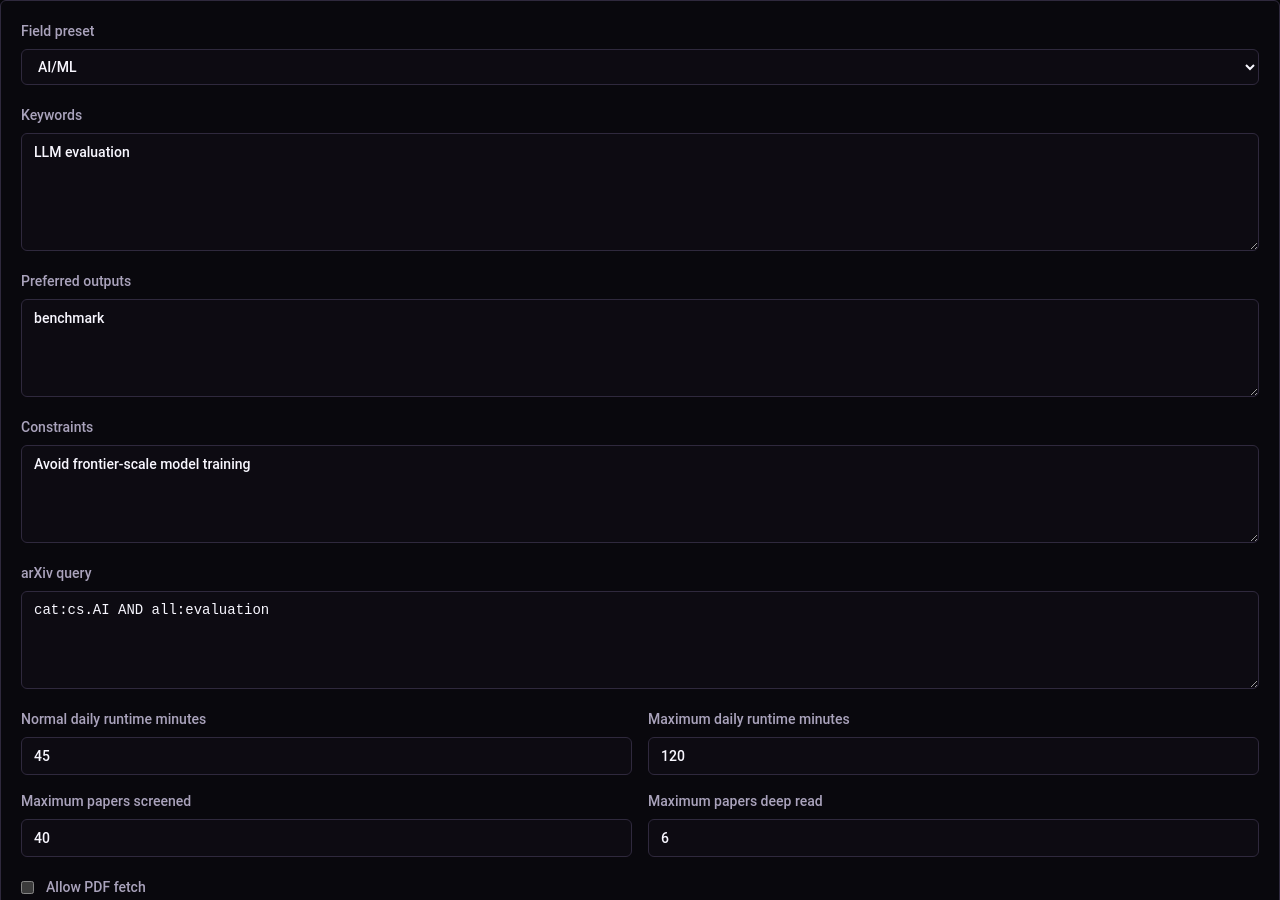
it: ProfileForm › repopulates query, keywords, outputs, and constraints when the field preset changes
Select "Chemistry" in the dropdown labelled "Field preset" at (640, 67), box [21, 49, 1259, 85]
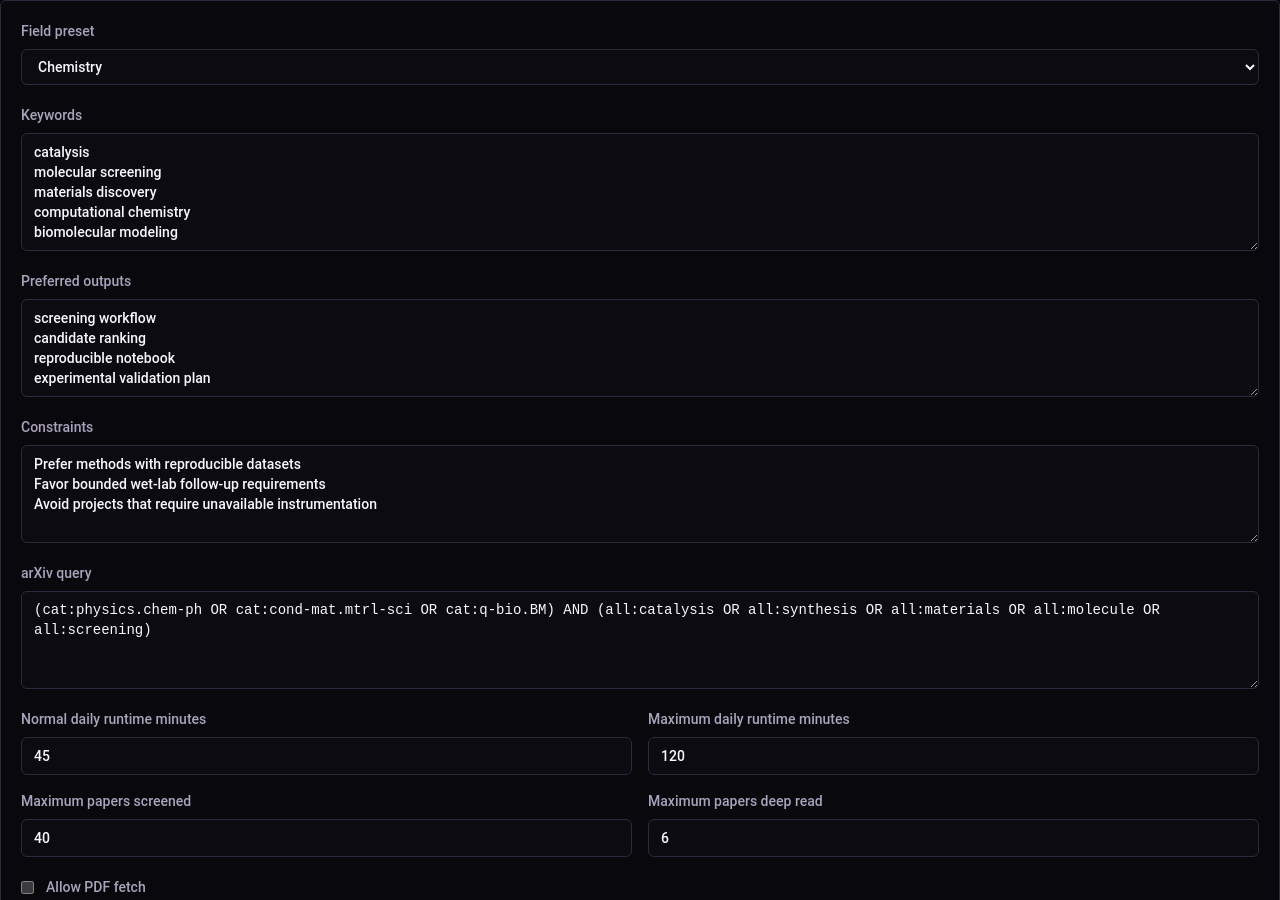
Result: the text box labelled "arXiv query" holds "(cat:physics.chem-ph OR cat:cond-mat.mtrl-sci OR cat:q-bio.BM) AND (all:catalysis OR all:synthesis OR all:materials OR all:molecule OR all:screening)" at [21, 591, 1259, 689]
